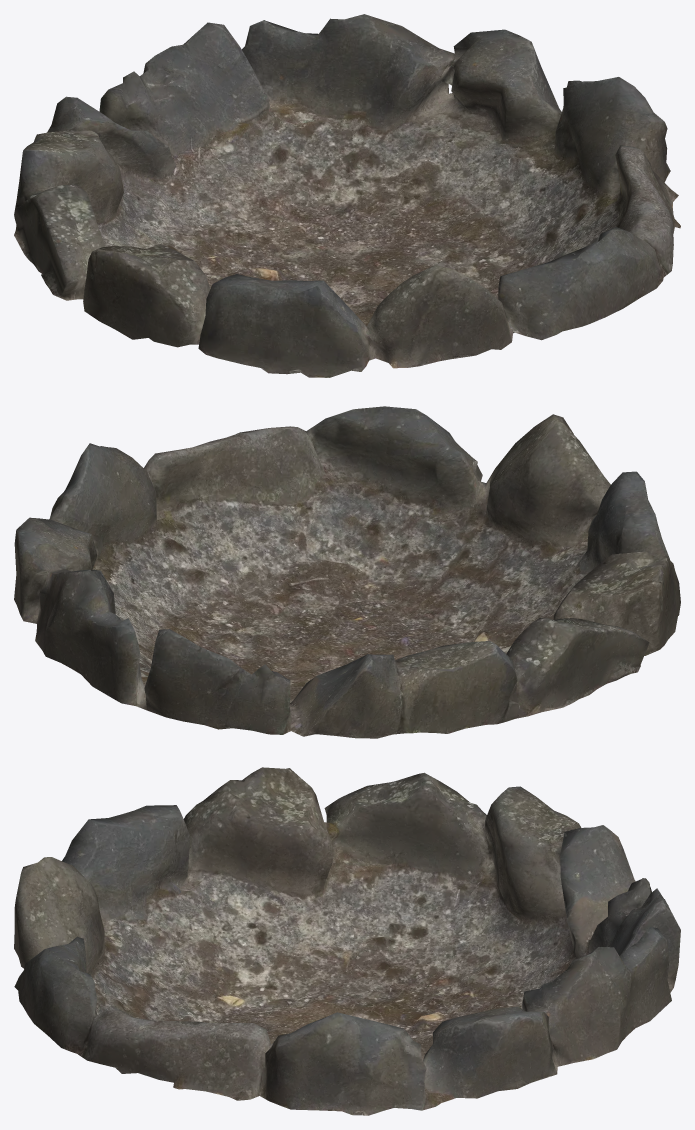
File: stone_fire_pit.glb
The picture shows the model from 3 angles, top to bottom: view 1: azimuth 30°, elevation 25°; view 2: azimuth 150°, elevation 25°; view 3: azimuth 270°, elevation 25°; orthographic projection.
Visible parts, largest first — view 1: stone_fire_pit; view 2: stone_fire_pit; view 3: stone_fire_pit.
Boxes of the visible parts, box(x1,y1,x2,y2) form: stone_fire_pit: box(14, 14, 680, 377); stone_fire_pit: box(14, 406, 680, 738); stone_fire_pit: box(14, 767, 680, 1115).
Bounding box in the file's own units: 1.45 × 0.3883 × 1.43.
Materials: 1 (1 with a texture image).
